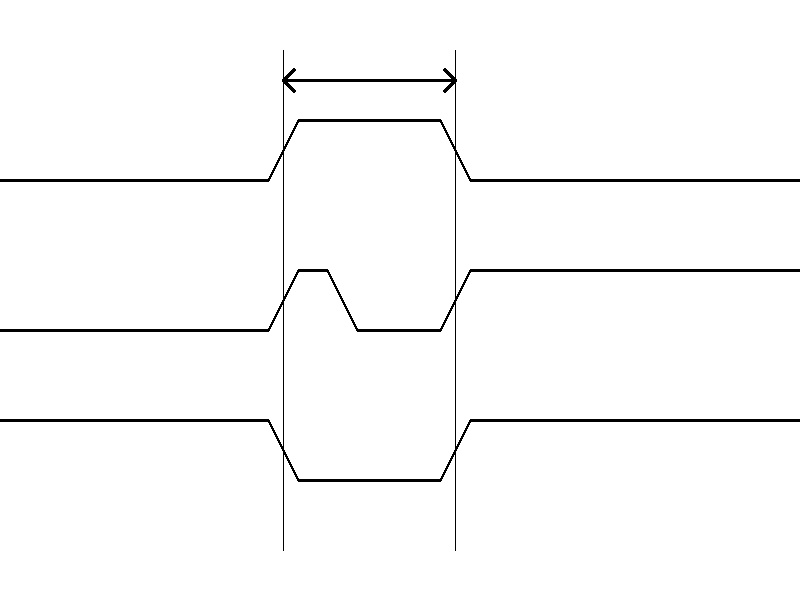double_arrow: (283, 65, 455, 95)
